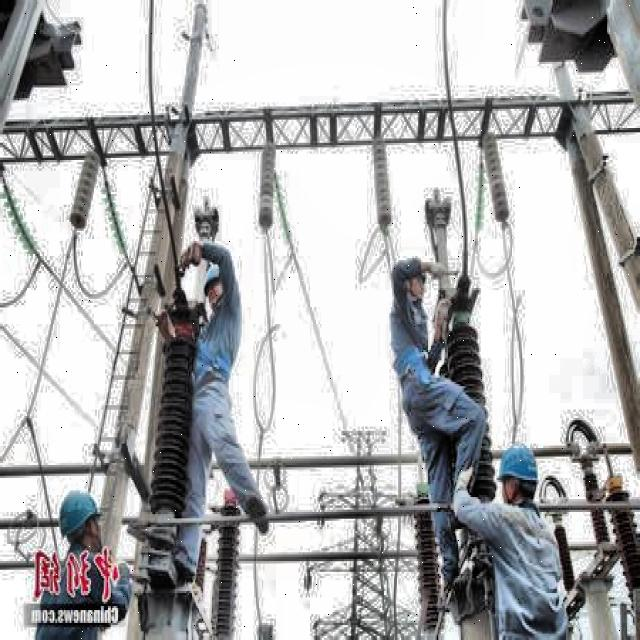helmet: (494, 440, 542, 510), (57, 487, 104, 552), (200, 262, 228, 312)
